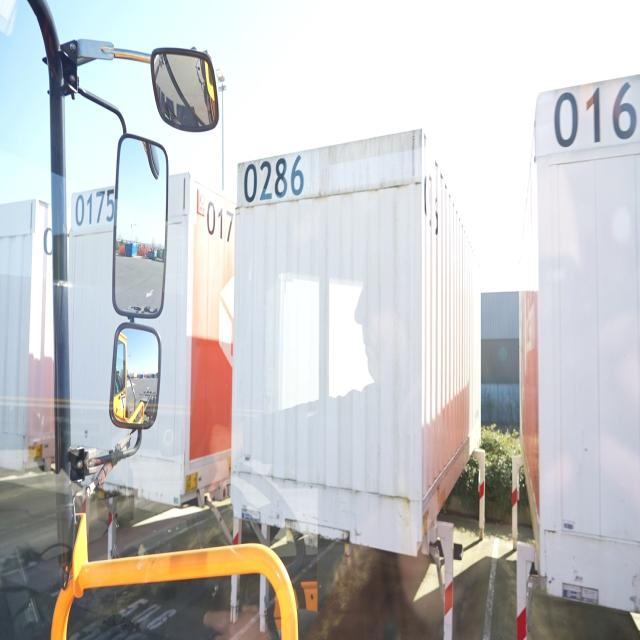Code: (243, 151, 305, 205), (72, 182, 116, 231)
